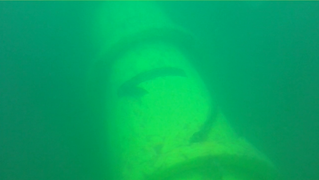1: (116, 66, 188, 99)
pipe: (88, 1, 282, 179)
